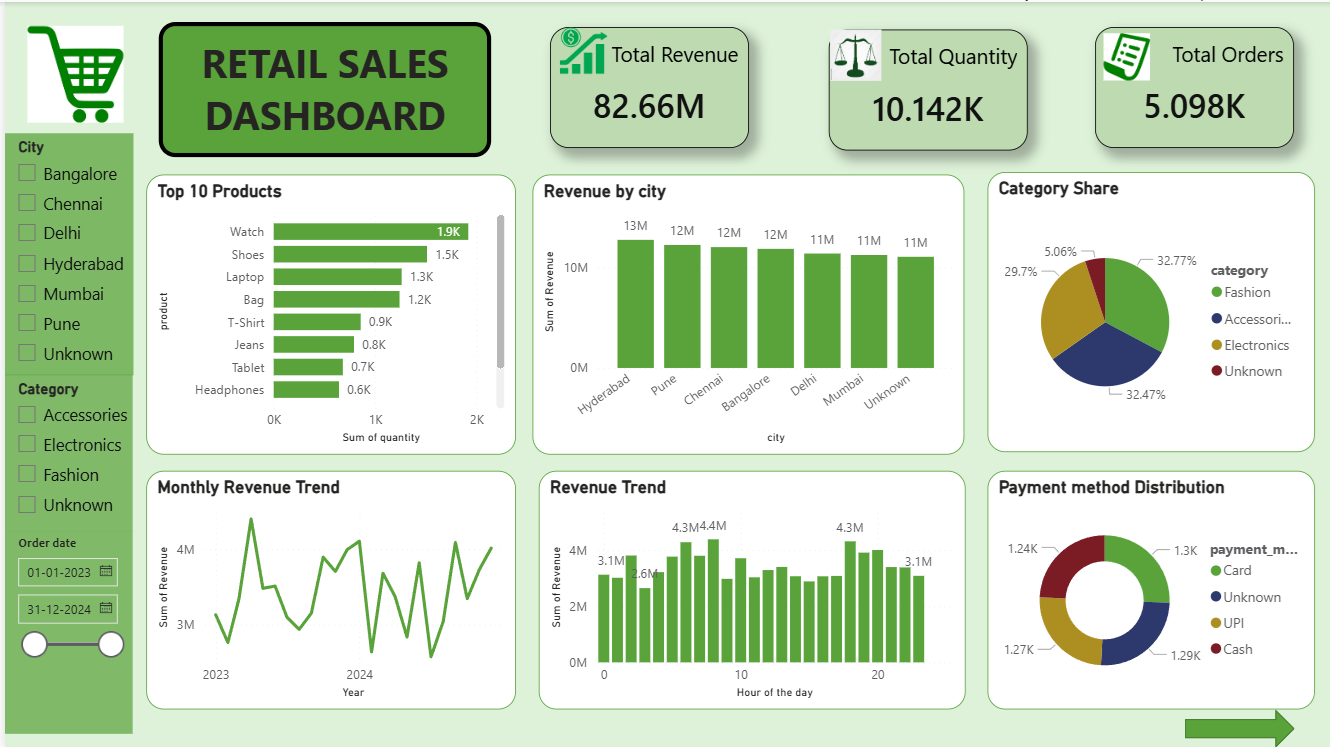

Layout of this report page (visuals, bound fields, positions):
{"tool":"powerbi","page":{"name":"Page 1","canvas":[1280,720],"ordinal":0},"visuals":[{"type":"cardVisual","title":"Total Revenue","fields":{"Data":["Sum(cleaned_retail_data.Revenue)"]},"box":[10,0,280,280],"z":0},{"type":"barChart","title":"Top Products","fields":{"Category":["cleaned_retail_data.product"],"Y":["Sum(cleaned_retail_data.quantity)"]},"box":[223.7,0,518.7,255.2],"z":1000},{"type":"clusteredColumnChart","fields":{"Category":["cleaned_retail_data.city"],"Y":["Sum(cleaned_retail_data.Revenue)"]},"box":[9.6,289.5,494,251.1],"z":2000},{"type":"pieChart","title":"Category Share","fields":{"Category":["cleaned_retail_data.category"],"Y":["Sum(cleaned_retail_data.quantity)"]},"box":[10,551,494,169],"z":3000},{"type":"donutChart","fields":{"Category":["cleaned_retail_data.payment_method"],"Y":["CountNonNull(cleaned_retail_data.payment_method)"]},"box":[504,290,239,251],"z":4000},{"type":"lineChart","fields":{"Category":["cleaned_retail_data.order_date.Variation.Date Hierarchy.Year","cleaned_retail_data.order_date.Variation.Date Hierarchy.Quarter","cleaned_retail_data.order_date.Variation.Date Hierarchy.Month","cleaned_retail_data.order_date.Variation.Date Hierarchy.Day"],"Y":["Sum(cleaned_retail_data.Revenue)"]},"box":[503.6,551.6,485.8,144.1],"z":5000},{"type":"slicer","fields":{"Values":["cleaned_retail_data.city"]},"box":[875.5,0,404.5,255],"z":5001},{"type":"slicer","fields":{"Values":["cleaned_retail_data.category"]},"box":[875.5,289.5,404.8,153.7],"z":5002},{"type":"slicer","fields":{"Values":["cleaned_retail_data.order_date"]},"box":[990,552,290,150],"z":5003}]}

Visuals, with their boxes in screenshot pixels (x1, y1, x2, y2), scaled from the page's 1280x720 canvas onto the 1330x747 screenshot:
"Total Revenue" cardVisual: (10,0,301,290)
"Top Products" barChart: (232,0,771,265)
clusteredColumnChart - cleaned_retail_data.city x Sum(cleaned_retail_data.Revenue): (10,300,523,561)
"Category Share" pieChart: (10,572,524,746)
donutChart - cleaned_retail_data.payment_method x CountNonNull(cleaned_retail_data.payment_method): (524,301,772,561)
lineChart - cleaned_retail_data.order_date.Variation.Date Hierarchy.Year x cleaned_retail_data.order_date.Variation.Date Hierarchy.Quarter: (523,572,1028,722)
slicer - cleaned_retail_data.city: (910,0,1329,265)
slicer - cleaned_retail_data.category: (910,300,1329,460)
slicer - cleaned_retail_data.order_date: (1029,573,1329,728)
